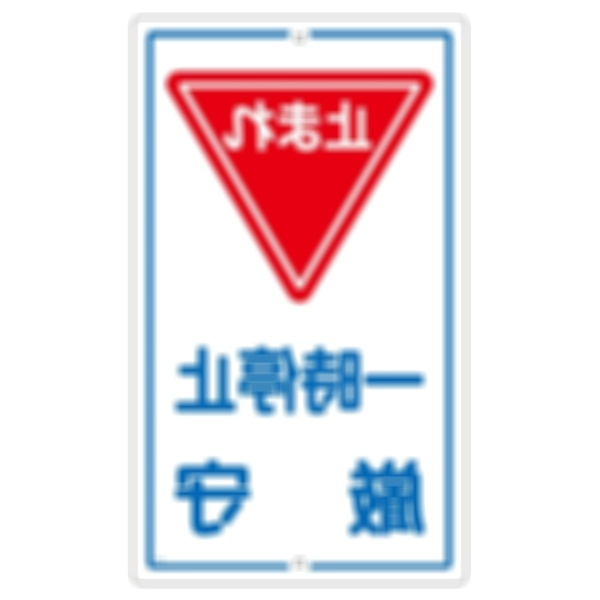Regulatory_sign_triangle: (161, 61, 432, 321)
